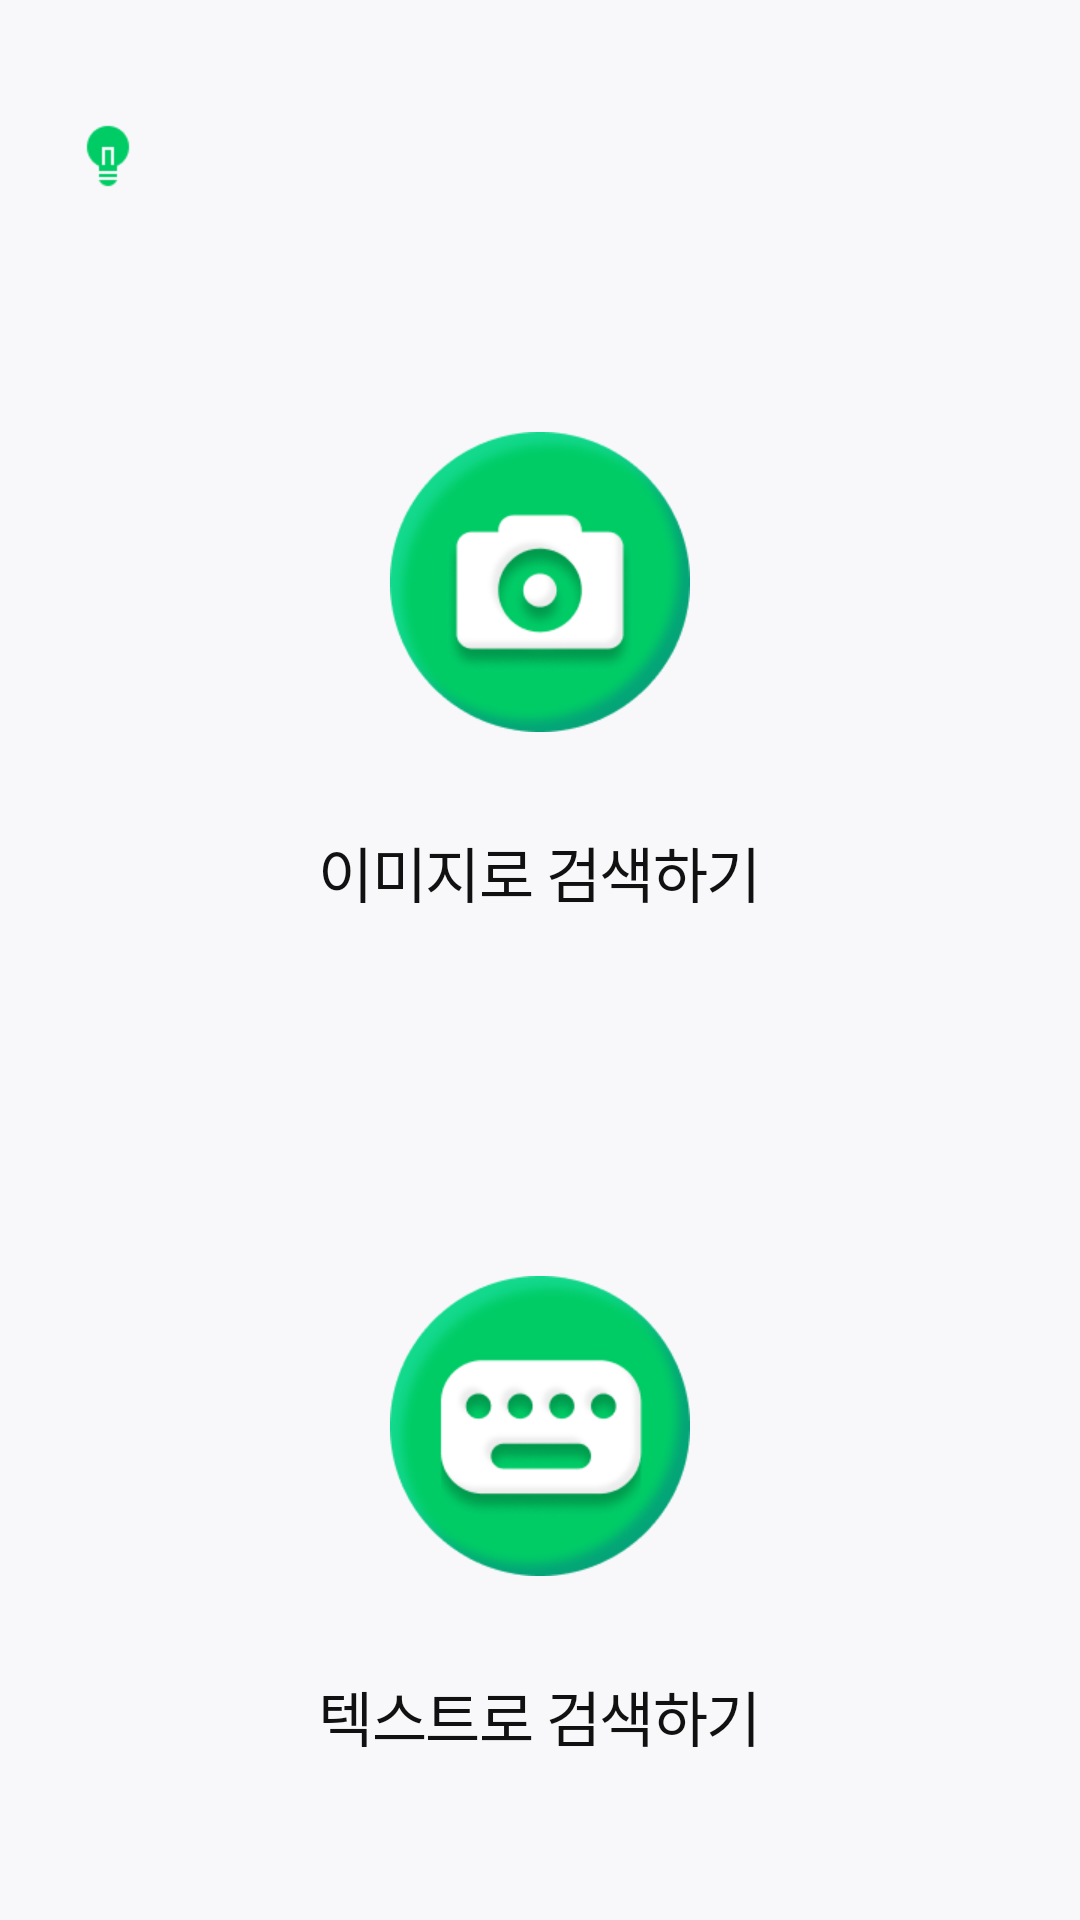

Icons on this 1080x1920 Android screen, each with the point to tap as (x=x, y=y):
camera: (x=540, y=582)
keyboard: (x=540, y=1426)
tip: (x=108, y=156)
